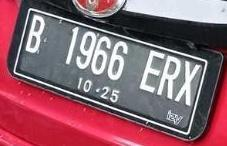1: (61, 24, 82, 69)
6: (86, 31, 116, 81), (104, 37, 134, 84)
9: (72, 26, 101, 75)
B: (21, 11, 48, 57)
E: (137, 48, 168, 96)
R: (154, 52, 185, 102)
X: (172, 57, 203, 108)
